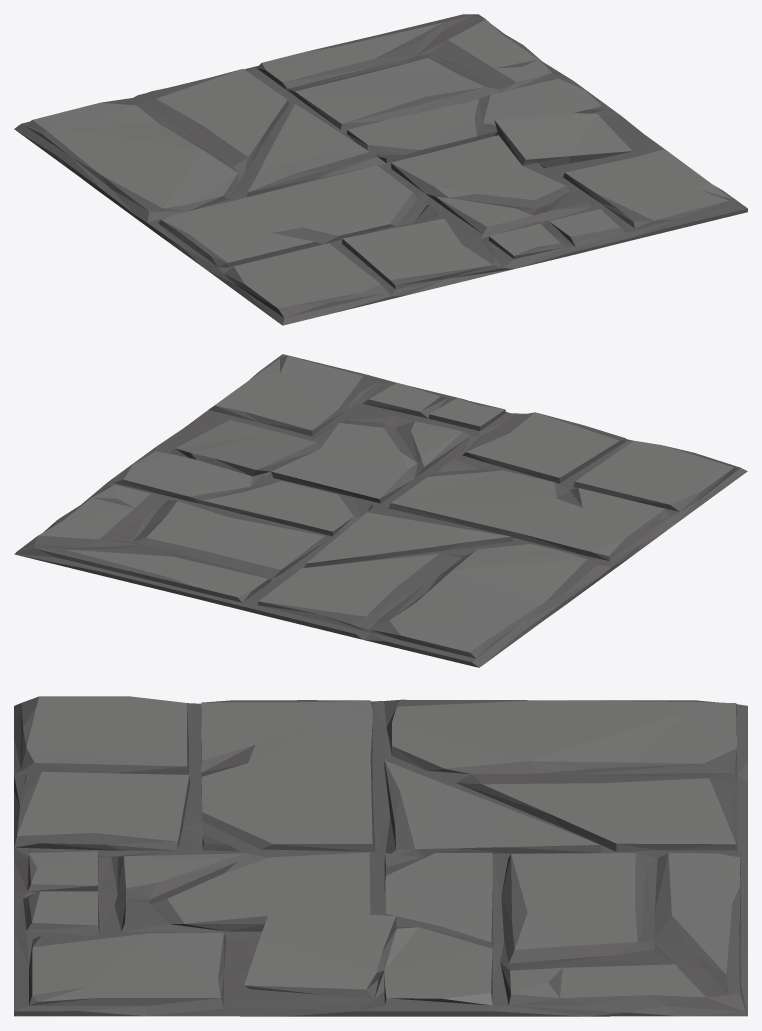
The model's file is SM_Env_Tiles_01.FBX.
The picture shows the model from 3 angles, top to bottom: view 1: azimuth 30°, elevation 25°; view 2: azimuth 150°, elevation 25°; view 3: azimuth 270°, elevation 25°; orthographic projection. The views are drawn at different scales.
Parts seen in each view (by area): view 1: SM_Env_Tiles_01; view 2: SM_Env_Tiles_01; view 3: SM_Env_Tiles_01.
Part boxes in pixels (bbox=[...]): SM_Env_Tiles_01: bbox=[14, 14, 747, 325]; SM_Env_Tiles_01: bbox=[14, 354, 747, 667]; SM_Env_Tiles_01: bbox=[14, 696, 747, 1016].
Size of what is drawn, in the model's own units: 500 by 500 by 18.56.
